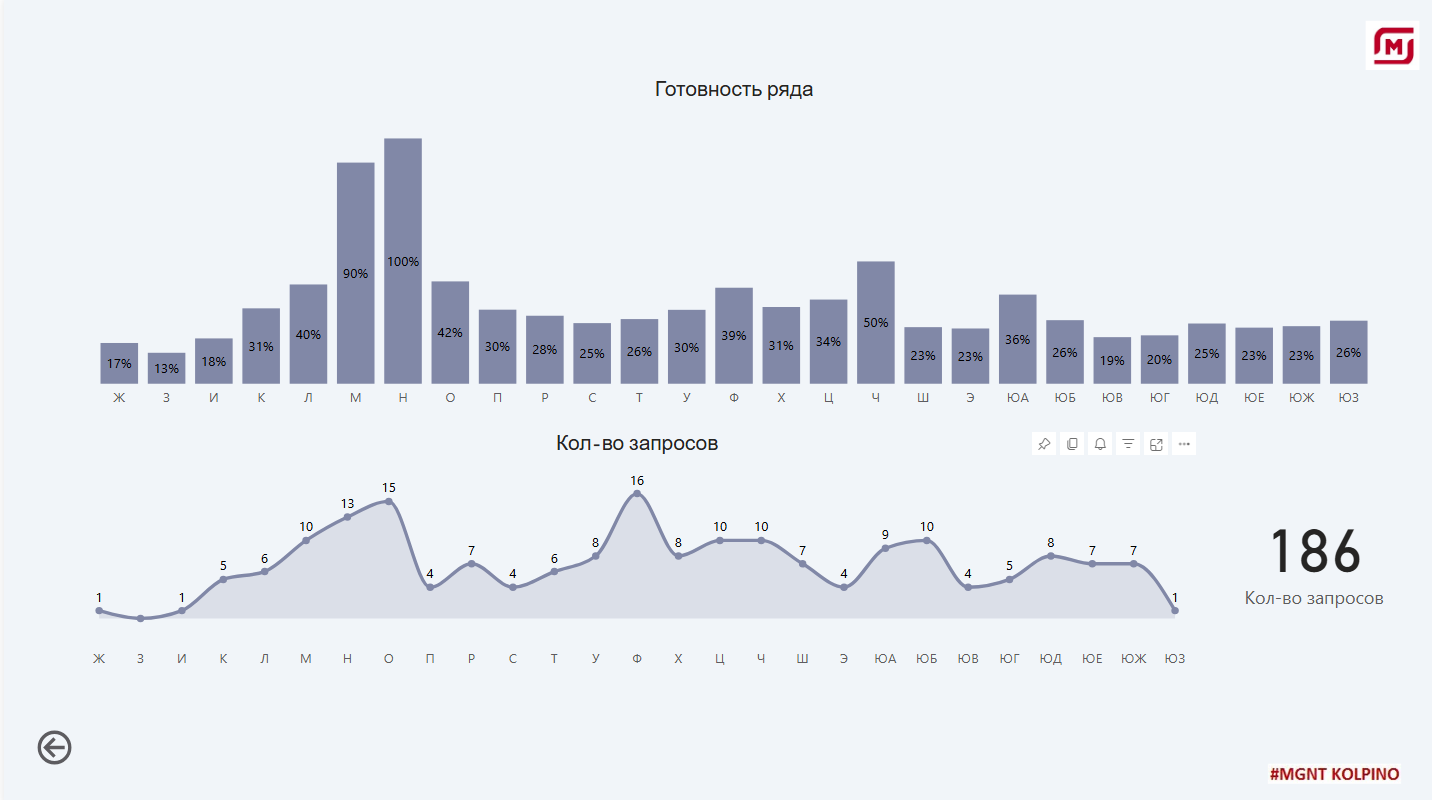

What the dashboard file says about the page in this screenshot:
{"tool":"powerbi","page":{"name":"оборачиваемость","canvas":[1280,720],"ordinal":2},"visuals":[{"type":"image","box":[1112.8,678.3,148.1,28.4],"z":0},{"type":"image","box":[1210,14,58,56],"z":1000},{"type":"columnChart","title":"Готовность ряда","fields":{"Category":["Слотник_по_оборачиваемости_ОС.Ряд"],"Y":["Divide(Max(Слотник_по_оборачиваемости_ОС.Оборачиваемость), ScopedEval(Max(Слотник_по_оборачиваемости_ОС.Оборачиваемость)"]},"box":[64.3,70.4,1174.4,303.7],"z":2000},{"type":"stackedAreaChart","title":"Кол-во запросов","fields":{"Category":["Слотник_по_оборачиваемости_ОС.Ряд"],"Y":["Sum(Слотник_по_оборачиваемости_ОС.больше 200)"]},"box":[65.4,386.1,999.5,221.2],"z":3000},{"type":"card","fields":{"Values":["Sum(Слотник_по_оборачиваемости_ОС.больше 200)"]},"box":[1076.9,434.4,184,123.7],"z":4000},{"type":"actionButton","box":[25.1,648.5,40.2,40.2],"z":5000}]}

Visuals, with their boxes in screenshot pixels (x1, y1, x2, y2), scaled from the page's 1280x720 canvas onto the 1432x800 screenshot:
image: bbox(1245, 754, 1411, 785)
image: bbox(1354, 16, 1419, 78)
"Готовность ряда" columnChart: bbox(72, 78, 1386, 416)
"Кол-во запросов" stackedAreaChart: bbox(73, 429, 1191, 675)
card - Sum(Слотник_по_оборачиваемости_ОС.больше 200): bbox(1205, 483, 1411, 620)
actionButton: bbox(28, 721, 73, 765)
